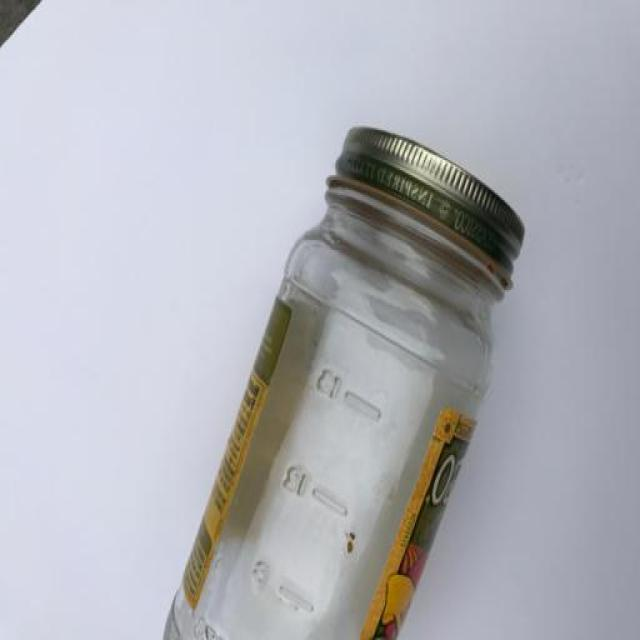glass: (162, 127, 526, 640)
